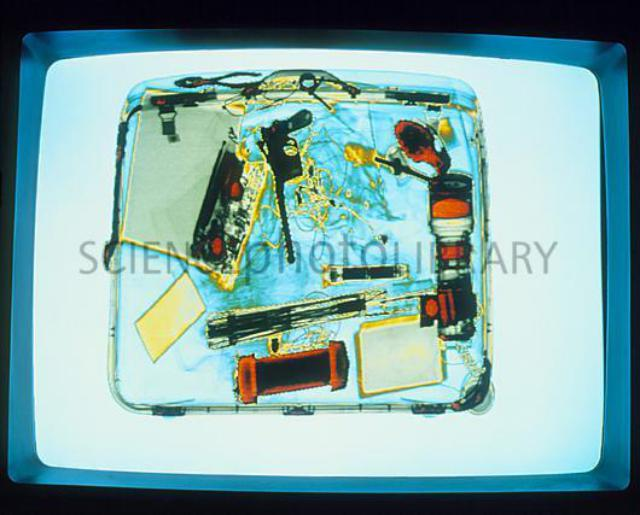Gun: (253, 105, 313, 262)
